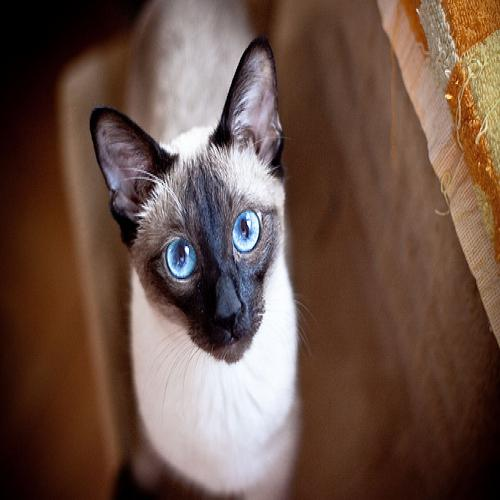siamese: (80, 33, 321, 379)
